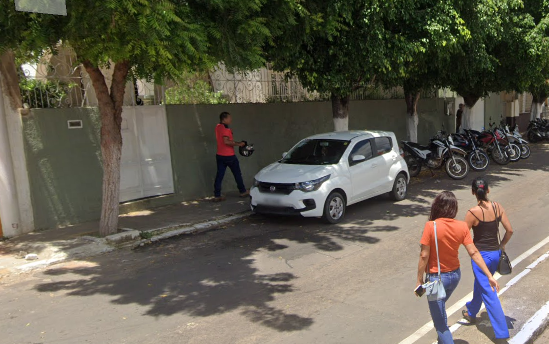car: (246, 129, 415, 228)
